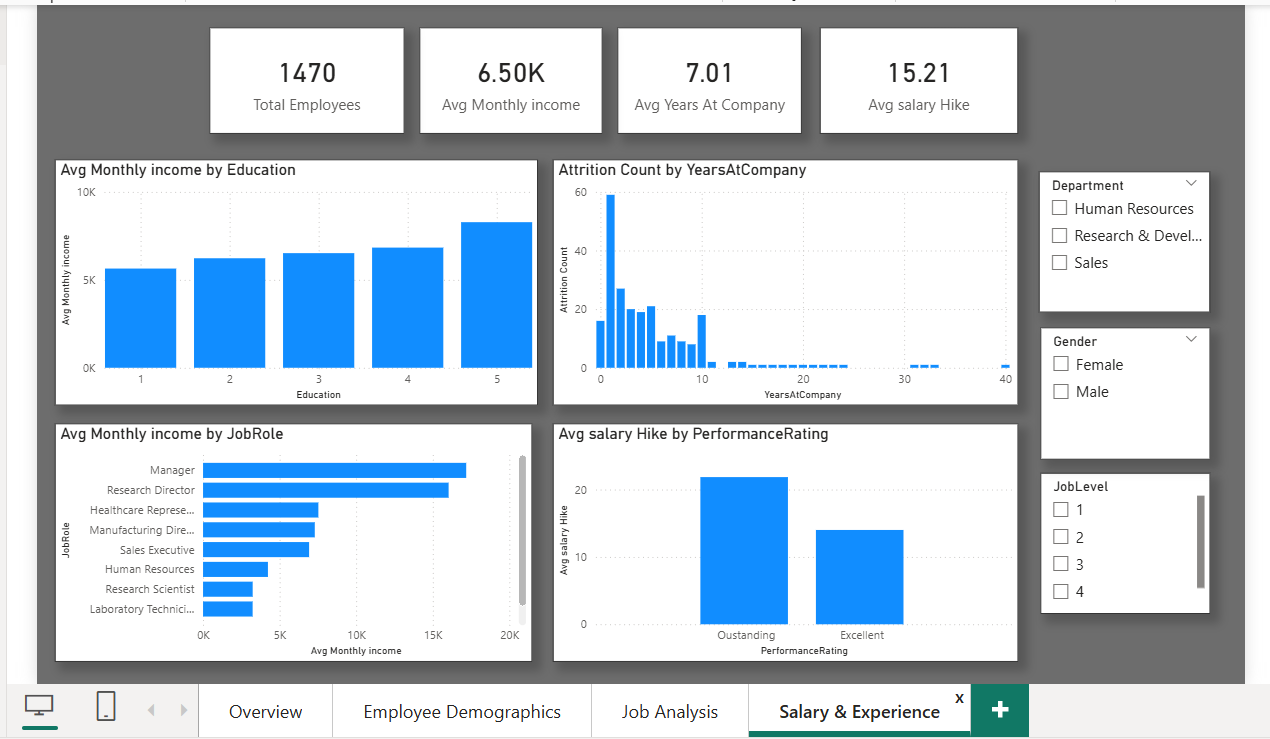

The dashboard page shown, as its layout file describes it:
{"tool":"powerbi","page":{"name":"Salary & Experience","canvas":[1280,720],"ordinal":3},"visuals":[{"type":"clusteredBarChart","fields":{"Category":["HR Data.JobRole"],"Y":["Dax Measures.Avg Monthly income"]},"box":[19.1,443.8,505.8,252.9],"z":0},{"type":"clusteredColumnChart","fields":{"Category":["HR Data.Education"],"Y":["Dax Measures.Avg Monthly income"]},"box":[19.1,163.8,512.2,260.9],"z":1000},{"type":"clusteredColumnChart","fields":{"Category":["HR Data.YearsAtCompany"],"Y":["Dax Measures.Attrition Count"]},"box":[547.2,163.8,493.1,260.9],"z":2000},{"type":"card","fields":{"Values":["Dax Measures.Avg Years At Company"]},"box":[615.6,23.9,195.6,112.9],"z":3000},{"type":"card","fields":{"Values":["Dax Measures.Avg Monthly income"]},"box":[405.6,23.9,194.1,112.9],"z":4000},{"type":"card","fields":{"Values":["Dax Measures.Total Employees"]},"box":[182.9,23.9,206.8,112.9],"z":5000},{"type":"card","fields":{"Values":["Dax Measures.Avg salary Hike"]},"box":[830.3,23.9,210,112.9],"z":6000},{"type":"clusteredColumnChart","fields":{"Category":["PerformanceRating.PerformanceRating"],"Y":["Dax Measures.Avg salary Hike"]},"box":[547.2,443.8,493.1,252.9],"z":7000},{"type":"slicer","fields":{"Values":["HR Data.Department"]},"box":[1062.5,176.6,181.3,149.5],"z":8000},{"type":"slicer","fields":{"Values":["HR Data.JobLevel"]},"box":[1064.1,496.3,179.7,149.5],"z":9000},{"type":"slicer","fields":{"Values":["HR Data.Gender"]},"box":[1064.1,342,179.7,140],"z":10000}]}

Visuals, with their boxes in screenshot pixels (x1, y1, x2, y2):
clusteredBarChart - HR Data.JobRole x Dax Measures.Avg Monthly income: locate(51, 419, 528, 658)
clusteredColumnChart - HR Data.Education x Dax Measures.Avg Monthly income: locate(51, 155, 535, 401)
clusteredColumnChart - HR Data.YearsAtCompany x Dax Measures.Attrition Count: locate(550, 155, 1015, 401)
card - Dax Measures.Avg Years At Company: locate(614, 23, 799, 129)
card - Dax Measures.Avg Monthly income: locate(416, 23, 599, 129)
card - Dax Measures.Total Employees: locate(206, 23, 401, 129)
card - Dax Measures.Avg salary Hike: locate(817, 23, 1015, 129)
clusteredColumnChart - PerformanceRating.PerformanceRating x Dax Measures.Avg salary Hike: locate(550, 419, 1015, 658)
slicer - HR Data.Department: locate(1036, 167, 1207, 308)
slicer - HR Data.JobLevel: locate(1037, 468, 1207, 609)
slicer - HR Data.Gender: locate(1037, 323, 1207, 455)
